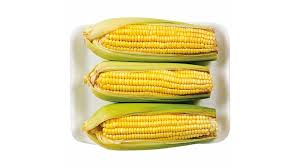milho: (76, 17, 221, 147)
